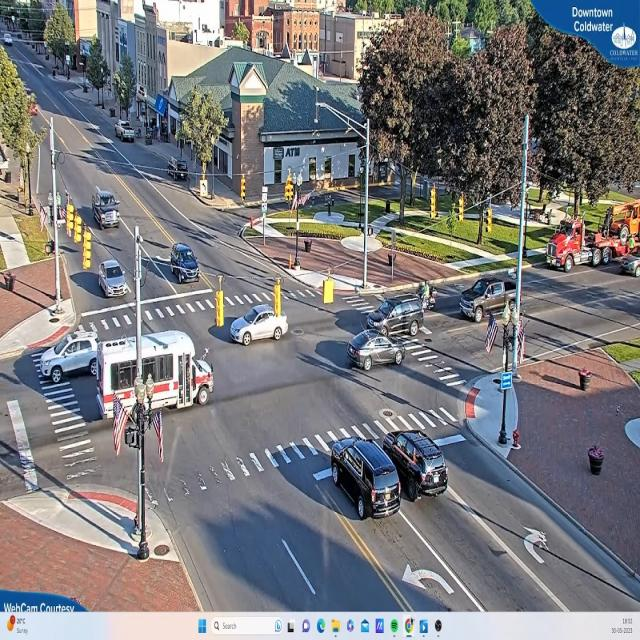bus: (100, 331, 214, 414)
car: (327, 438, 402, 521), (384, 430, 448, 500), (34, 330, 102, 384), (214, 306, 291, 345), (459, 278, 523, 320), (361, 296, 428, 332), (347, 336, 406, 372), (96, 258, 130, 298), (170, 244, 200, 282), (92, 191, 121, 230), (117, 122, 137, 145)
motorbike: (415, 277, 442, 314)
